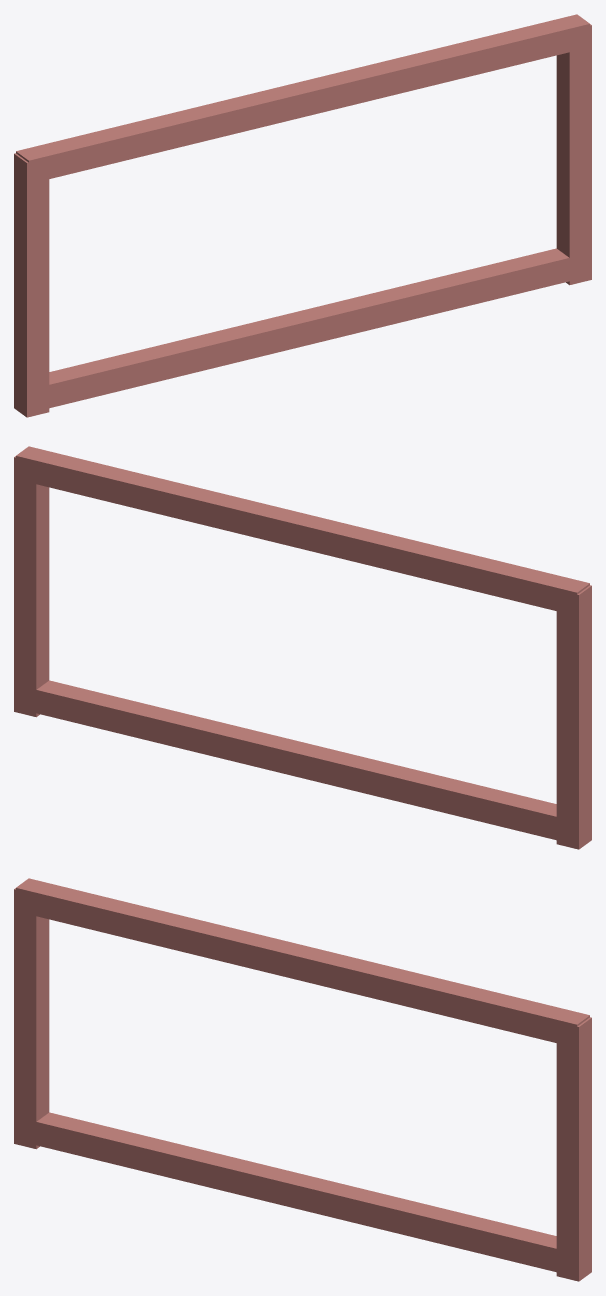
File: guard_lod0.glb
3 views of the same model, one above another, from view 1: azimuth 30°, elevation 25°; view 2: azimuth 150°, elevation 25°; view 3: azimuth 330°, elevation 25° (orthographic).
Visible parts, largest first — view 1: frame_top, frame_bottom, left, right; view 2: frame_top, frame_bottom, left, right; view 3: frame_top, frame_bottom, right, left.
Boxes of the visible parts, x1,y1,x2,y2 form: frame_top: (16,14,589,183); frame_bottom: (29,248,589,412); left: (14,153,49,417); right: (556,24,591,285); frame_top: (16,446,589,615); frame_bottom: (16,680,576,844); left: (556,585,591,849); right: (14,456,49,717); frame_top: (16,878,589,1047); frame_bottom: (16,1112,576,1276); right: (556,1017,591,1281); left: (14,888,49,1149).
Size of the model in its own units: 3.02 by 1.31 by 0.12.
